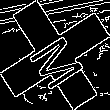M_NE: (21, 22, 89, 88)
